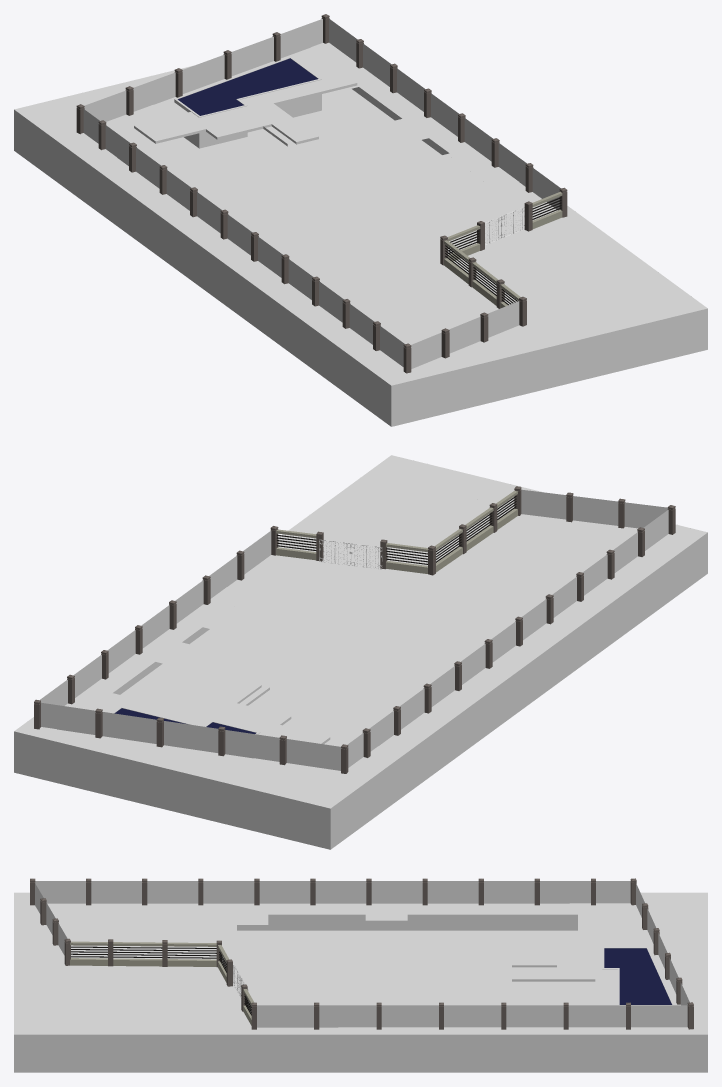
File: site.glb
3 views of the same model, one above another, from view 1: azimuth 30°, elevation 25°; view 2: azimuth 150°, elevation 25°; view 3: azimuth 270°, elevation 25° (orthographic). The views are drawn at different scales.
Visible parts, largest first — view 1: site_base, Site grass bounds, import plot bounds.001, Site grass, Site driveway, Site road, Site plool pavers, Site plants, Site pool water, Cube.006, Site plool, Cube.001 (+5 smaller); view 2: site_base, import plot bounds.001, Site grass bounds, Site grass, Site driveway, Site road, Site plants, Site plool pavers, Cube.006, Cube.001, import plot bounds.002, import plot bounds.004 (+3 smaller); view 3: site_base, import plot bounds.001, Site grass, Site grass bounds, Site road, Site driveway, Site plool pavers, Site plants, Site pool water, Cube.006, import plot bounds.004, import plot bounds.002 (+6 smaller).
Part boxes in pixels (x1,y1,x2,y2): site_base: (14,87,707,426); Site grass bounds: (14,65,613,385); import plot bounds.001: (83,18,560,368); Site grass: (81,47,521,371); Site driveway: (312,154,557,274); Site road: (483,231,707,331); Site plool pavers: (134,51,357,146); Site plants: (81,42,518,312); Site pool water: (178,58,317,115); Cube.006: (98,120,411,373); Site plool: (174,56,321,148); Cube.001: (356,39,567,217); site_base: (14,532,707,849); import plot bounds.001: (39,489,668,770); Site grass bounds: (14,478,707,808); Site grass: (40,514,671,772); Site driveway: (206,555,475,649); Site road: (288,455,485,566); Site plants: (40,518,637,772); Site plool pavers: (87,679,330,744); Cube.006: (362,505,675,757); Cube.001: (67,526,278,704); import plot bounds.002: (276,508,517,573); import plot bounds.004: (277,496,516,564); site_base: (14,914,707,1072); import plot bounds.001: (35,881,689,1027); Site grass: (31,903,688,1029); Site grass bounds: (14,892,707,1034); Site road: (14,984,241,1034); Site driveway: (222,947,424,1029); Site plool pavers: (512,922,617,1005); Site plants: (49,903,688,1028); Site pool water: (604,948,671,1004); Cube.006: (30,878,595,905); import plot bounds.004: (71,946,251,1015); import plot bounds.002: (70,958,251,1025).
Bounding box in the file's own units: 22.23 × 4.62 × 45.89.
